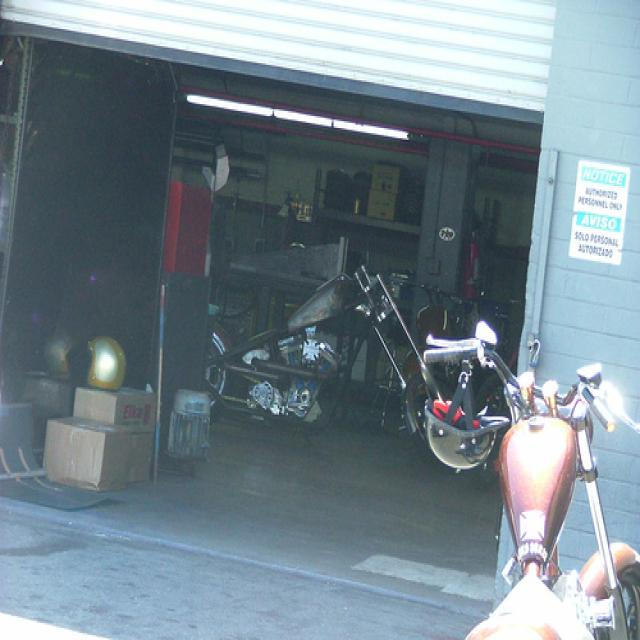Motorbike: (427, 328, 640, 640)
